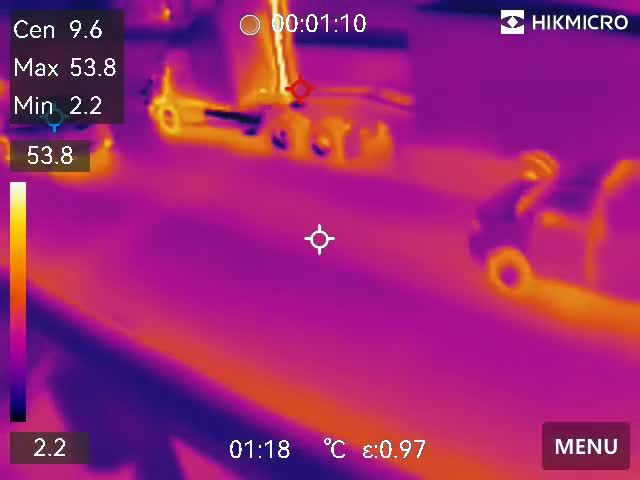heavyTruck: (147, 2, 640, 164)
